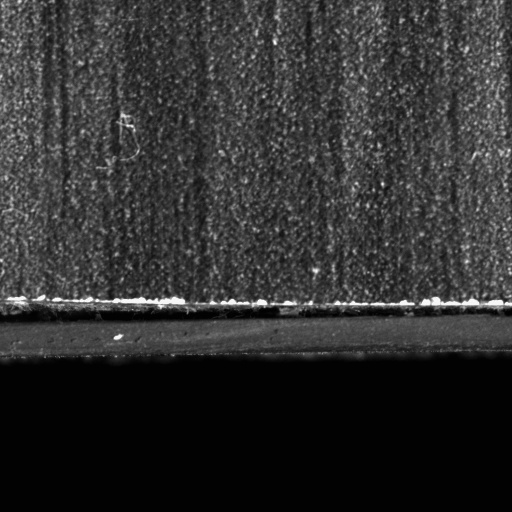kaijiao: (0, 291, 511, 365)
